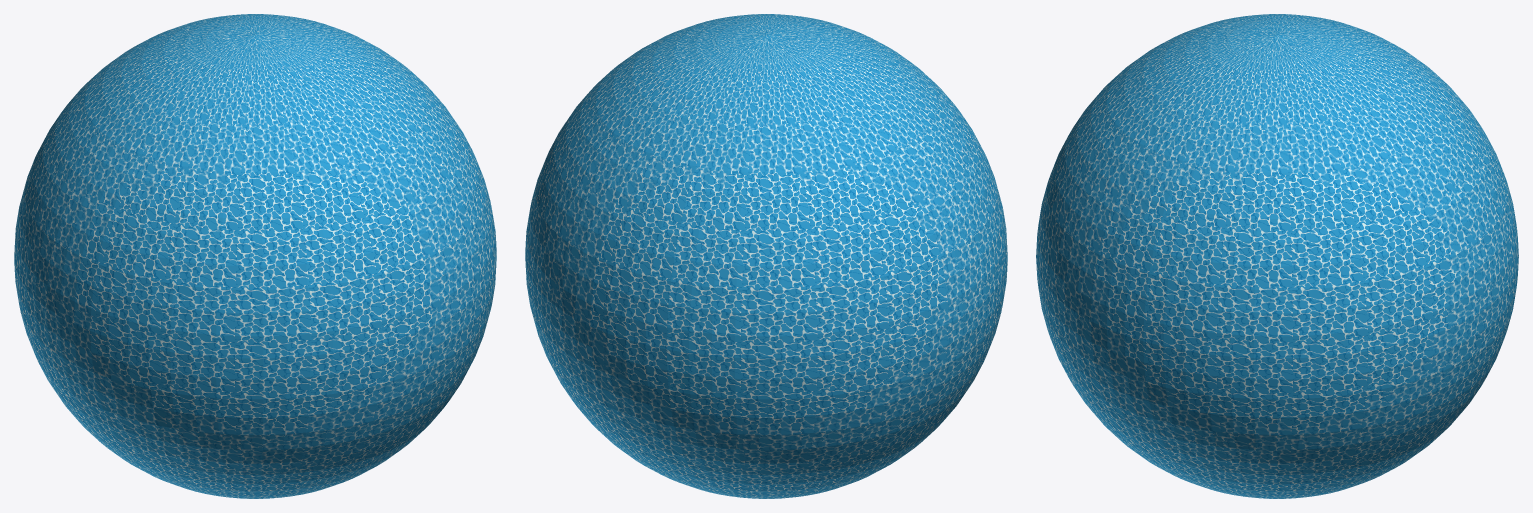
Rendered from ocean.glb.
3 renders of one model, left to right at view 1: azimuth 30°, elevation 25°; view 2: azimuth 150°, elevation 25°; view 3: azimuth 270°, elevation 25°, orthographic.
Parts seen in each view (by area): view 1: Sphere; view 2: Sphere; view 3: Sphere.
Boxes of the visible parts, left/top/right/bottom form: Sphere: left=14, top=14, right=496, bottom=498; Sphere: left=525, top=14, right=1007, bottom=498; Sphere: left=1036, top=14, right=1518, bottom=498.
Size of the model in its own units: 732 by 740 by 732.
Materials: 1 (1 with a texture image).
